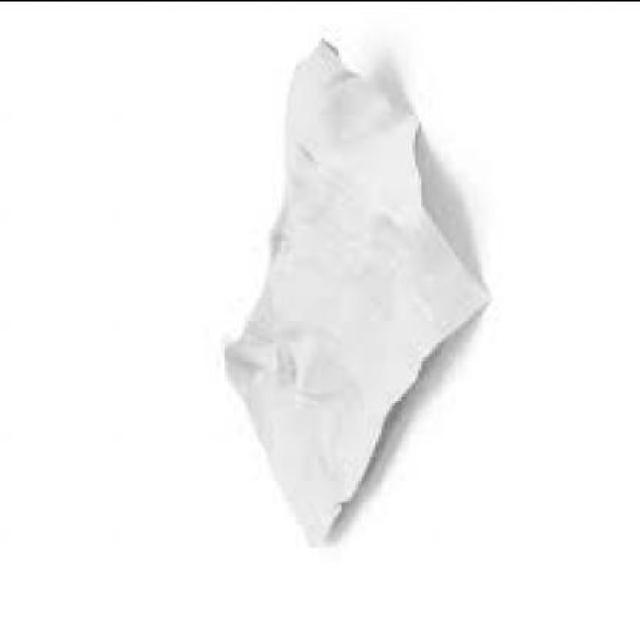cups: (220, 34, 492, 546)
